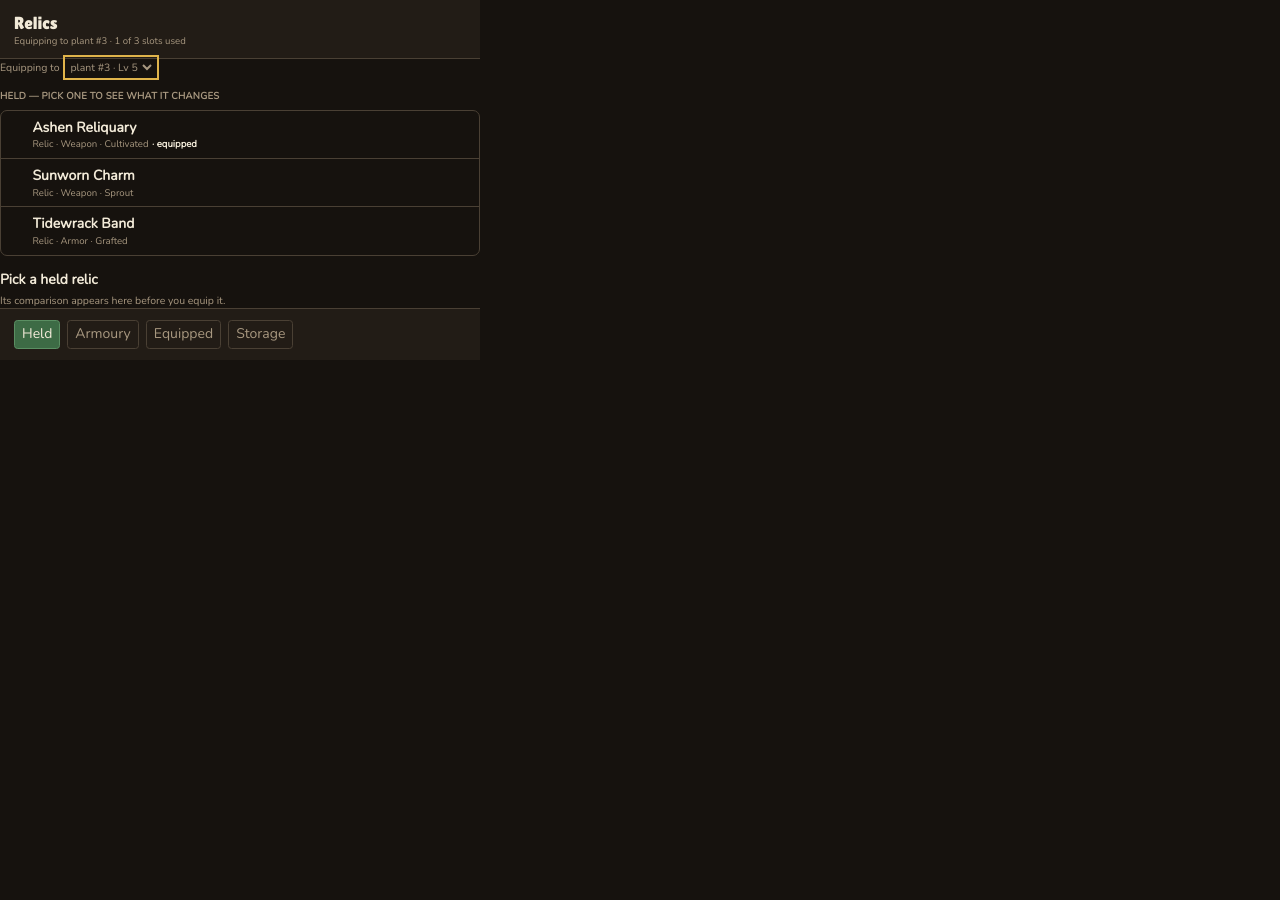
Test case: RelicsLayer (T14) › selecting the already-equipped relic itself says so honestly instead of a self-swap, and hides Equip
Click the button with test id "relics-row-relic.ashen_reliquary" at (84, 128), box 1,111 -> 479,159
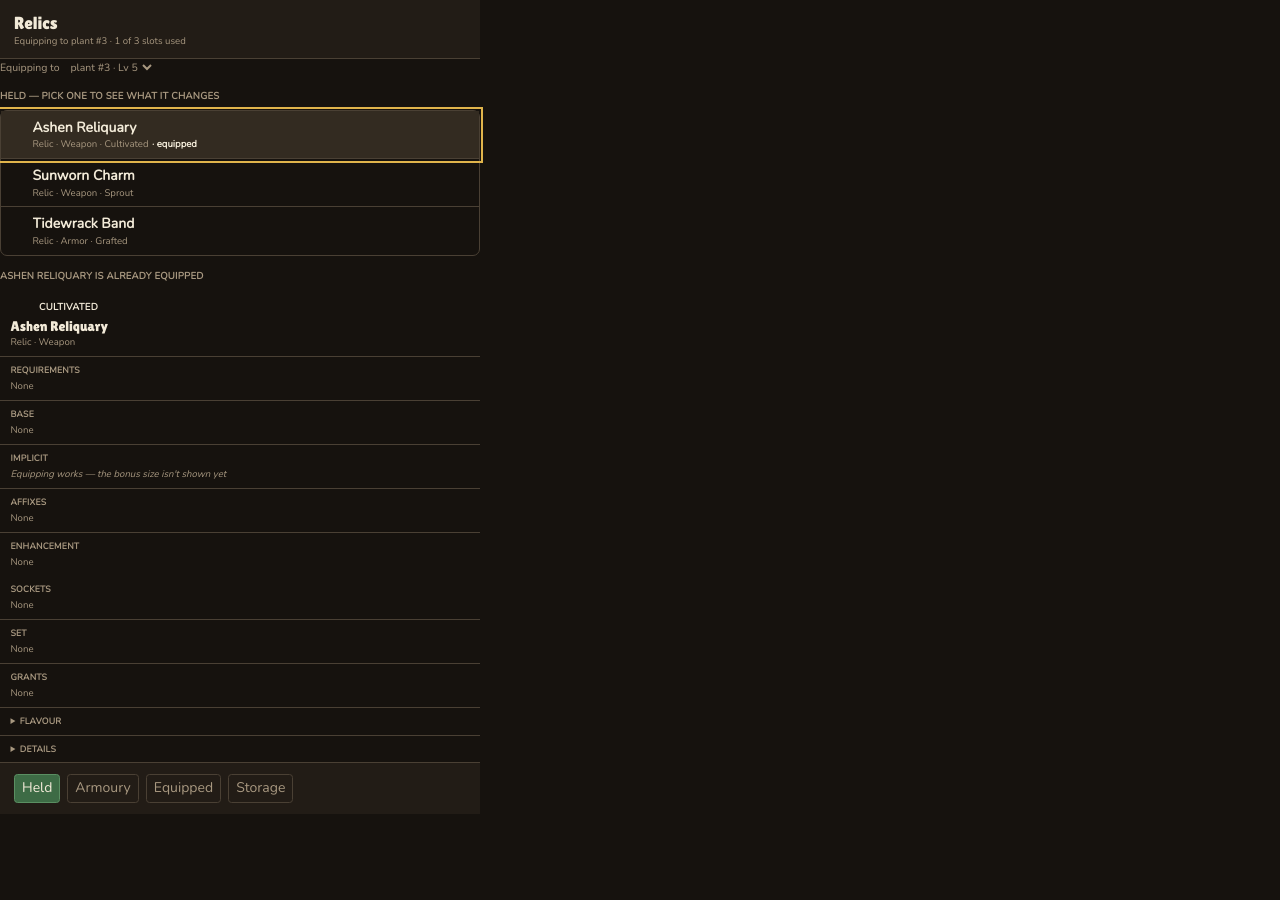
Expected: the element with test id "relics-compare" shows "Ashen Reliquary is already equipped", 0,270 -> 480,762
